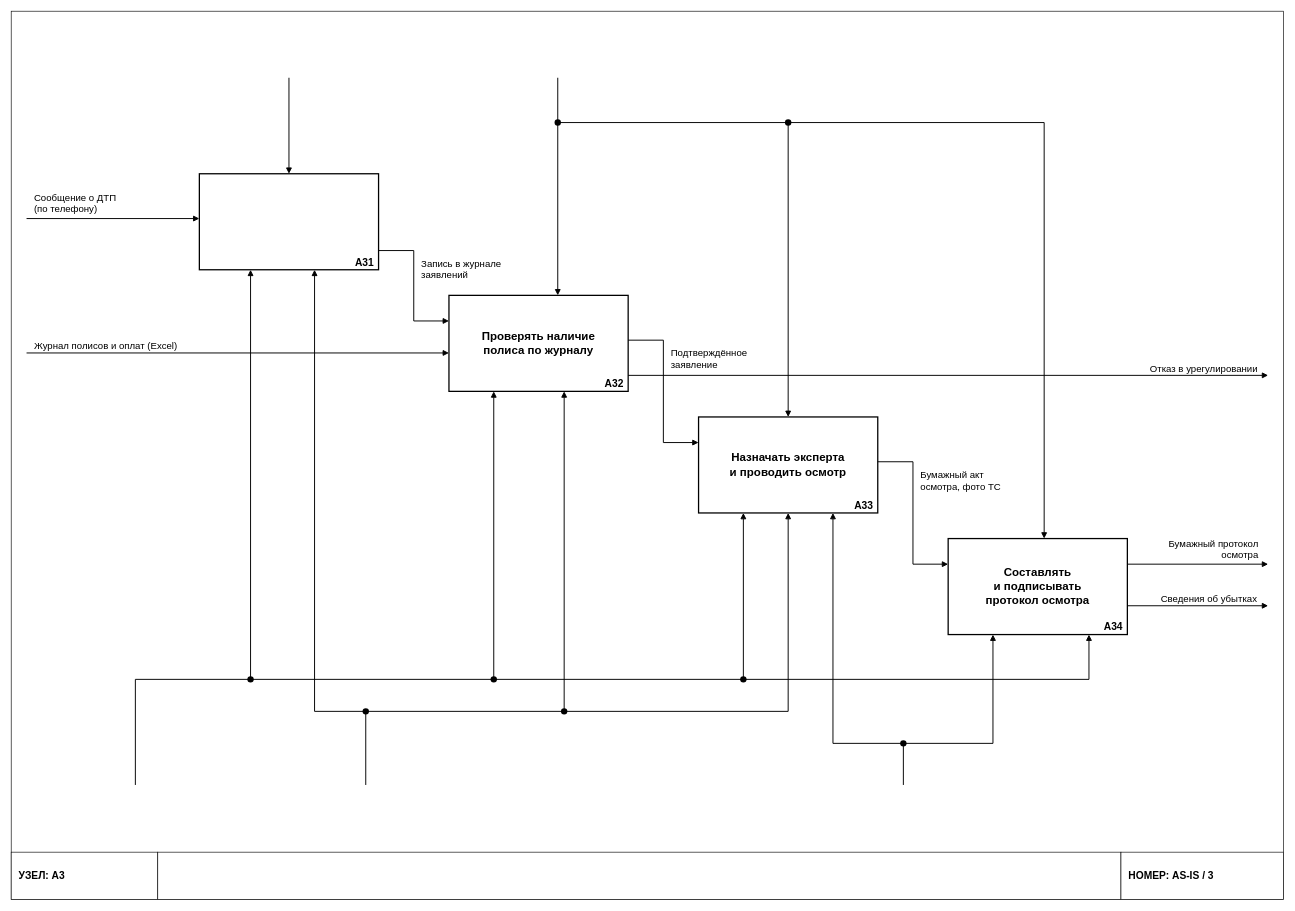
Some shapes in this 1295 by 911 pixel diagram are drawn without their labels. The shapes that lost their labels are listed below. From the top down, each one's box as (x1, y1, x2, y2) in pixels, then its label:
(198, 173, 379, 270): Принимать заявление о ДТП
(157, 852, 1121, 900): НАЗВАНИЕ: Принимать заявления о ДТП и проводить осмотр (AS-IS) — декомпозиция
